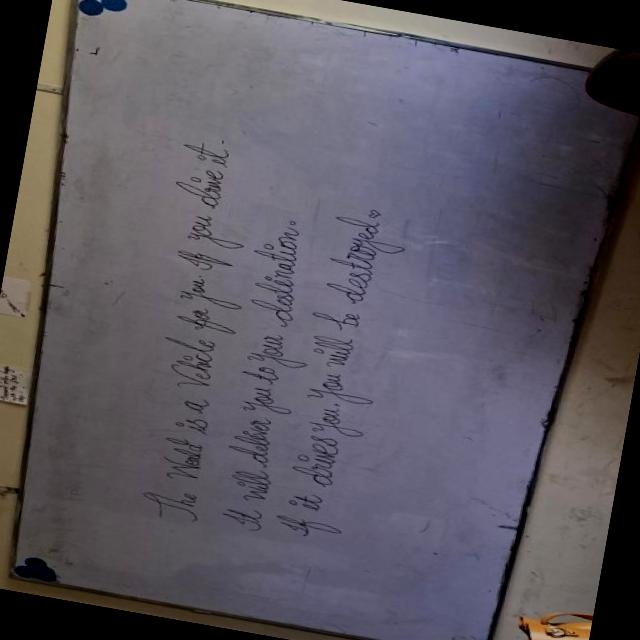White-board: (6, 0, 640, 640)
